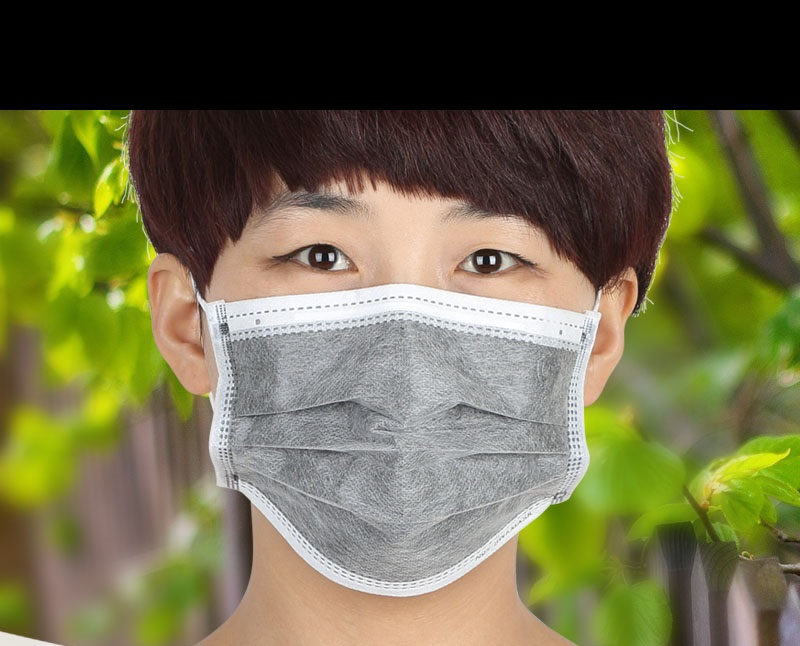face_mask: (209, 124, 596, 521)
